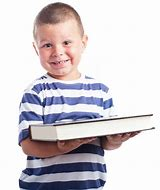book: (27, 113, 157, 144)
